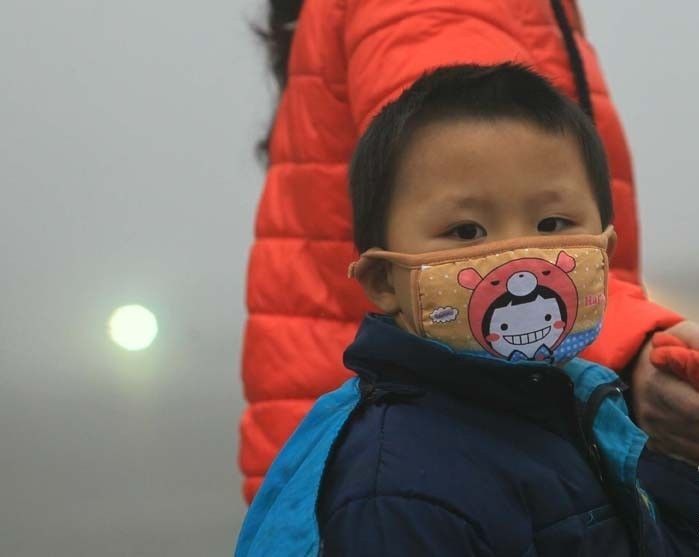face_mask: (403, 123, 606, 377)
